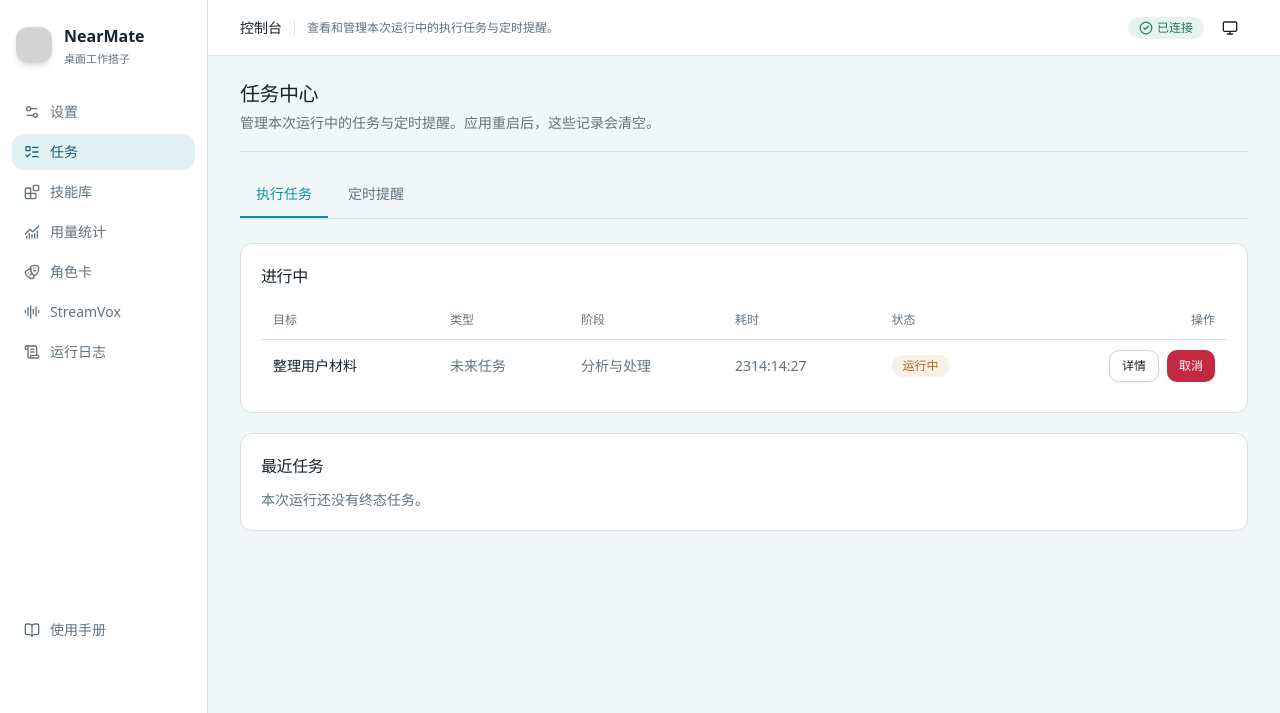
Test: console activity center › 从任务列表进入深链接详情，只展示公开字段并支持返回
Check: the heading "任务中心" is shown, box [240, 80, 318, 107]
Check: the text "整理用户材料" is shown, box [273, 356, 357, 375]
Click the button "详情" at (1134, 366), box [1109, 350, 1159, 382]
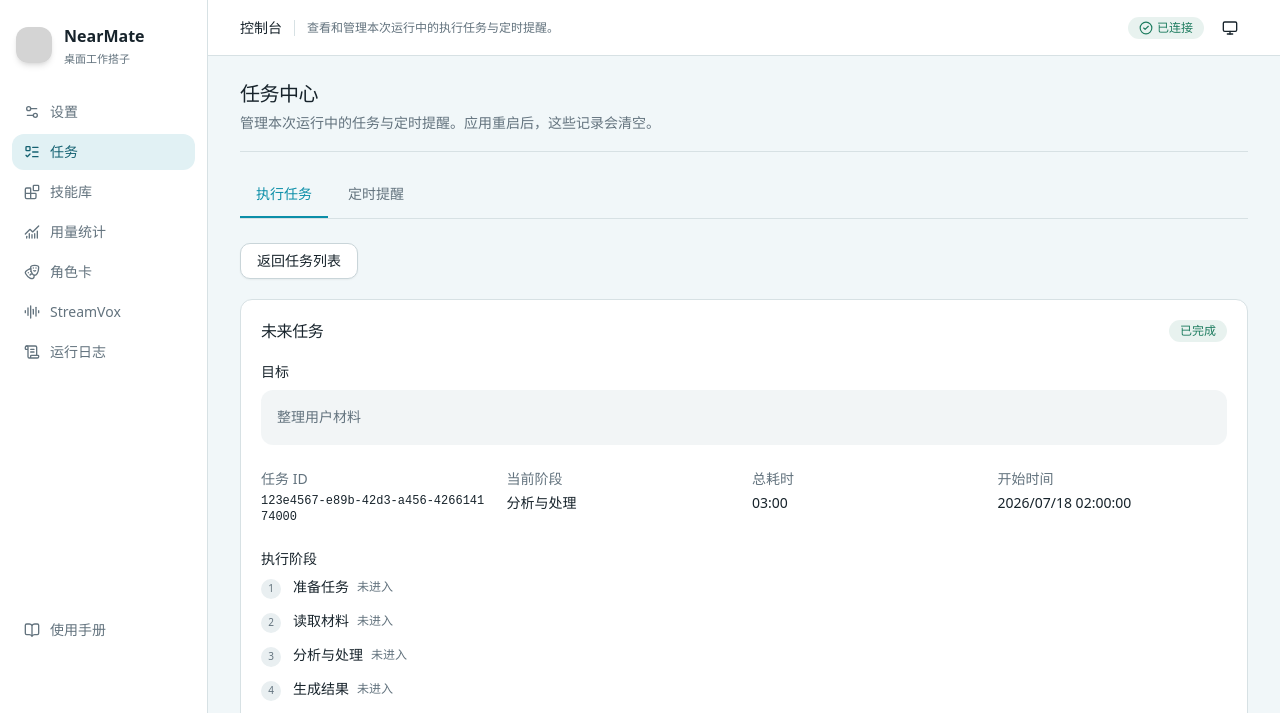
Check: the heading "执行阶段" is shown, box [261, 548, 317, 568]
Click the button "返回任务列表" at (299, 261), box [240, 243, 358, 279]
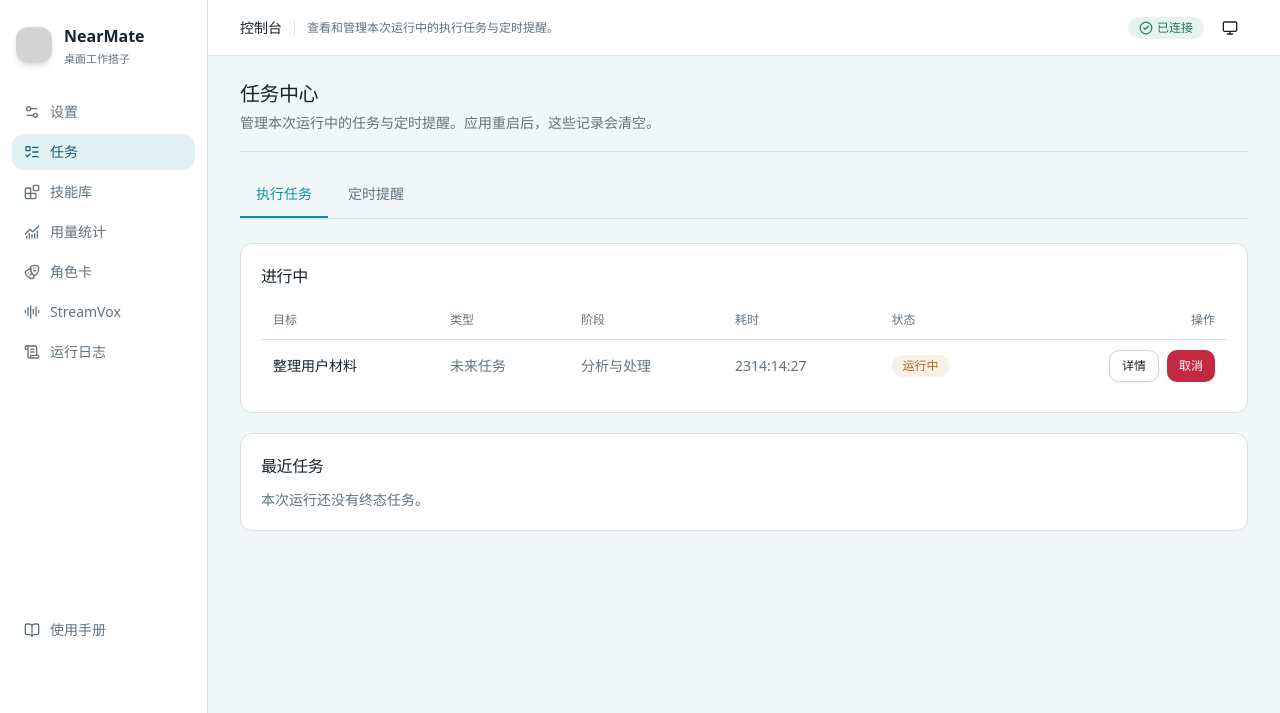
Check: the heading "最近任务" is shown, box [261, 455, 323, 477]
